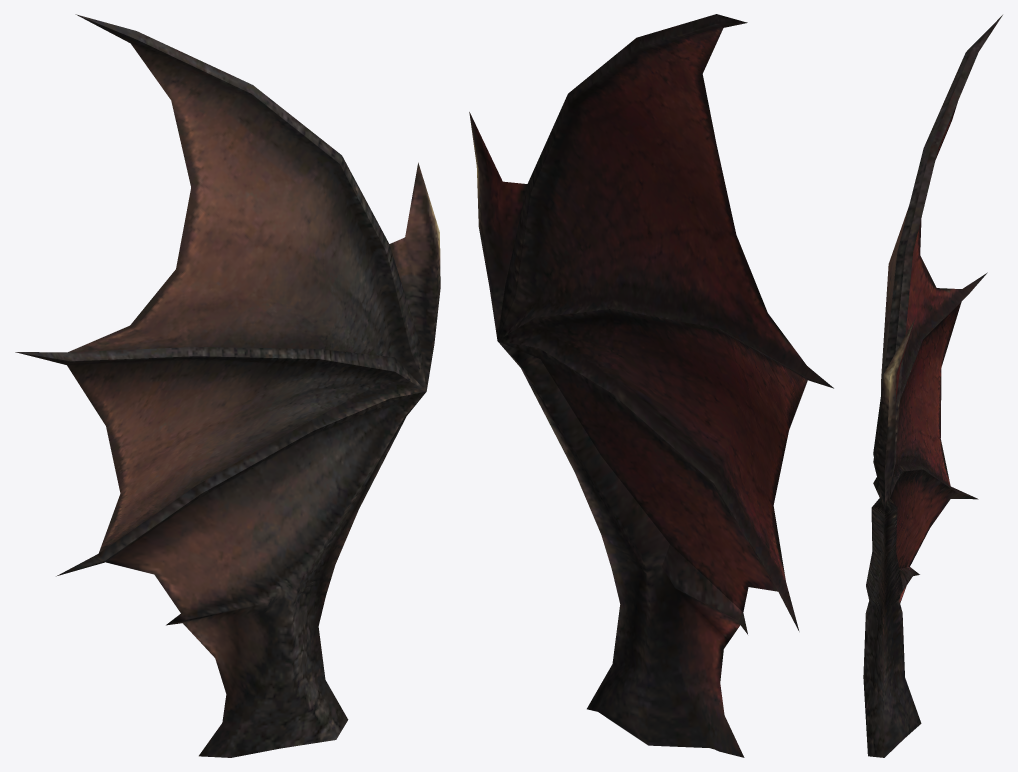
The model's file is wings.obj.
The picture shows the model from 3 angles, left to right: view 1: azimuth 30°, elevation 25°; view 2: azimuth 150°, elevation 25°; view 3: azimuth 270°, elevation 25°; orthographic projection. The views are drawn at different scales.
Visible parts, largest first — view 1: objMatMesh4; view 2: objMatMesh4; view 3: objMatMesh4.
Boxes of the visible parts, box(x1,y1,x2,y2) form: objMatMesh4: box(15, 14, 440, 757); objMatMesh4: box(469, 14, 833, 757); objMatMesh4: box(863, 15, 1002, 757).
Size of the model in its own units: 11.55 by 21.31 by 4.11.
1 material, 1 textured.
